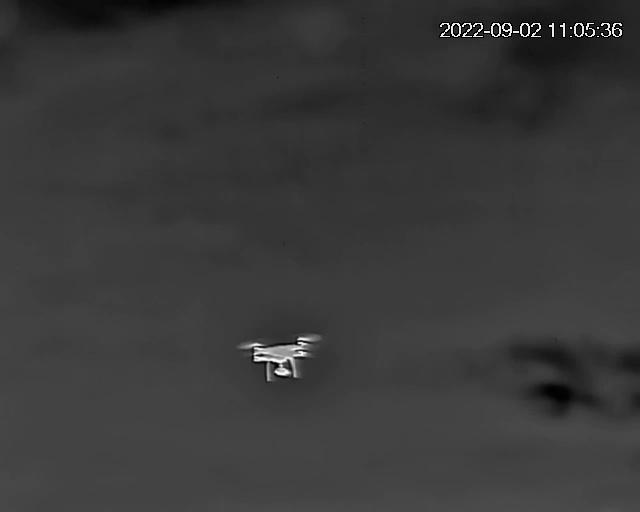DJI-Phantom: (238, 331, 324, 384)
